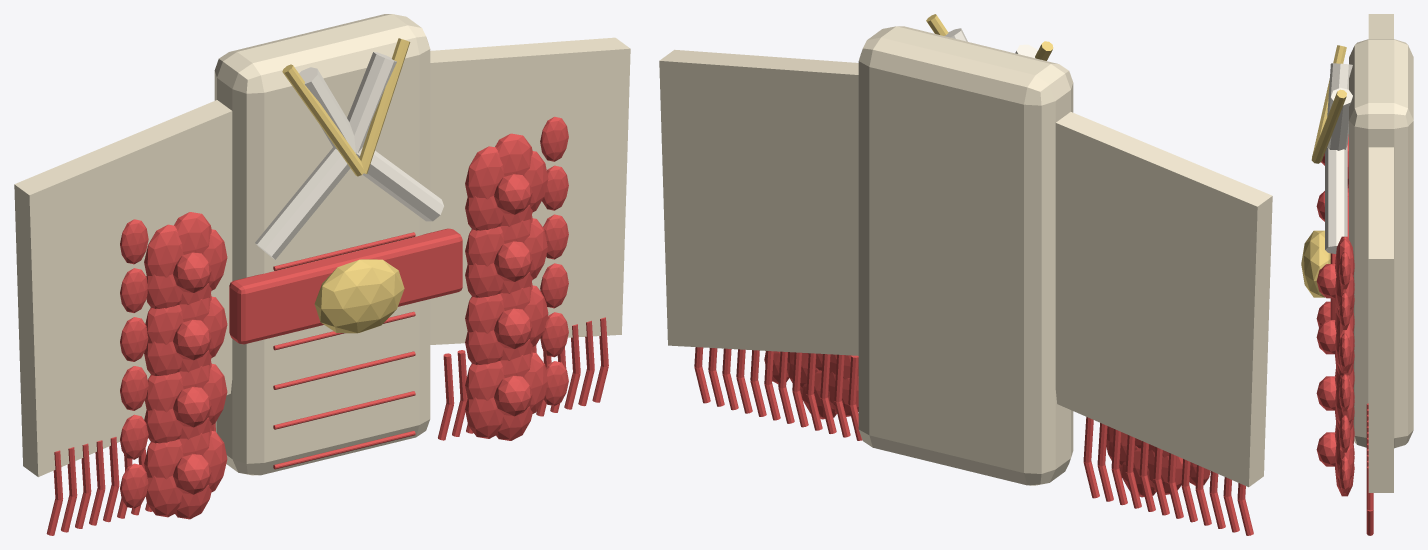
Rendered from costume_miko_chihaya.glb.
The picture shows the model from 3 angles, left to right: view 1: azimuth 30°, elevation 25°; view 2: azimuth 150°, elevation 25°; view 3: azimuth 270°, elevation 25°; orthographic projection. The views are drawn at different scales.
Visible parts, largest first — view 1: Miko long-sleeve white chihaya long body, Miko long-sleeve white chihaya left ample sleeve, Miko long-sleeve white chihaya right ample sleeve, Miko long-sleeve white chihaya embroidered chrysanthemum pet (×28), Miko long-sleeve white chihaya decorative sash, Miko long-sleeve white chihaya embroidered chrysanthemum cen (×8), Miko long-sleeve white chihaya central ornate knot, Miko long-sleeve white chihaya crossed ivory collars_01.001, Miko long-sleeve white chihaya crossed ivory collars_01, Miko long-sleeve white chihaya crossed ivory collars_00.001, Miko decorative neck cord_00, Miko decorative neck cord_01 (+17 smaller); view 2: Miko long-sleeve white chihaya long body, Miko long-sleeve white chihaya left ample sleeve, Miko long-sleeve white chihaya right ample sleeve; view 3: Miko long-sleeve white chihaya long body, Miko long-sleeve white chihaya right ample sleeve, Miko long-sleeve white chihaya embroidered chrysanthemum cen (×6), Miko long-sleeve white chihaya embroidered chrysanthemum pet (×7), Miko long-sleeve white chihaya crossed ivory collars_01, Miko long-sleeve white chihaya central ornate knot, Miko decorative neck cord_01, Miko long-sleeve white chihaya crossed ivory collars_00.001, Miko long-sleeve white chihaya left ample sleeve, Miko long-sleeve white chihaya crossed ivory collars_00, Miko decorative neck cord_00, Crimson miko embroidery.011 (+8 smaller).
Boxes of the visible parts, x1,y1,x2,y2 form: Miko long-sleeve white chihaya long body: (214,14,430,475); Miko long-sleeve white chihaya left ample sleeve: (14,100,232,476); Miko long-sleeve white chihaya right ample sleeve: (430,37,630,344); Miko long-sleeve white chihaya embroidered chrysanthemum pet (×28): (144,133,548,519); Miko long-sleeve white chihaya decorative sash: (229,228,462,344); Miko long-sleeve white chihaya embroidered chrysanthemum cen (×8): (173,173,532,494); Miko long-sleeve white chihaya central ornate knot: (314,259,404,333); Miko long-sleeve white chihaya crossed ivory collars_01.001: (255,147,355,259); Miko long-sleeve white chihaya crossed ivory collars_01: (355,147,443,221); Miko long-sleeve white chihaya crossed ivory collars_00.001: (347,52,396,152); Miko decorative neck cord_00: (282,64,365,176); Miko decorative neck cord_01: (359,38,410,173); Miko long-sleeve white chihaya long body: (858,26,1073,485); Miko long-sleeve white chihaya left ample sleeve: (1055,112,1272,487); Miko long-sleeve white chihaya right ample sleeve: (659,49,858,355); Miko long-sleeve white chihaya long body: (1349,39,1413,448); Miko long-sleeve white chihaya right ample sleeve: (1368,147,1393,492); Miko long-sleeve white chihaya embroidered chrysanthemum cen (×6): (1316,191,1336,466); Miko long-sleeve white chihaya embroidered chrysanthemum pet (×7): (1335,239,1354,496); Miko long-sleeve white chihaya crossed ivory collars_01: (1325,147,1347,253); Miko long-sleeve white chihaya central ornate knot: (1301,230,1330,297); Miko decorative neck cord_01: (1311,89,1346,163); Miko long-sleeve white chihaya crossed ivory collars_00.001: (1327,87,1352,150); Miko long-sleeve white chihaya left ample sleeve: (1368,14,1393,39); Miko long-sleeve white chihaya crossed ivory collars_00: (1327,63,1352,147); Miko decorative neck cord_00: (1312,45,1346,157); Crimson miko embroidery.011: (1339,252,1350,289).
Size of the model in its own units: 1.95 by 1.34 by 0.3786.
